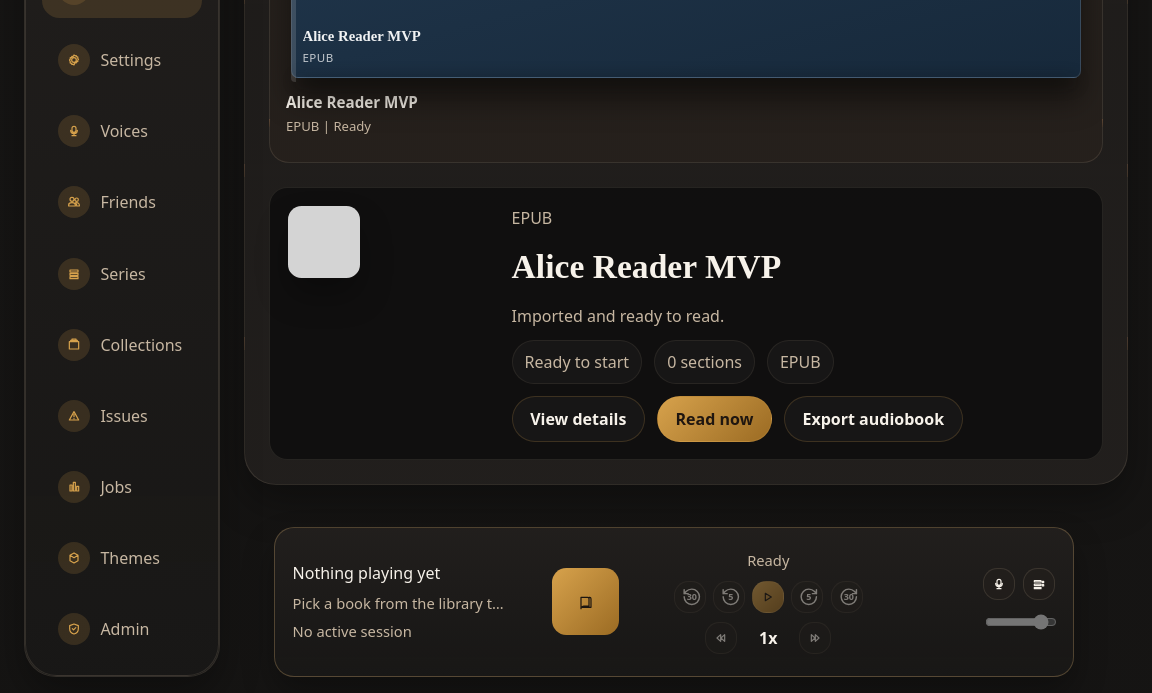
Test: LibraryPage › tells Alice when no presets exist and points to the voices page
The width and height of the screenshot is (1152, 693).
(page scrolled)
Click the button "Export audiobook" at [873, 419], box 784,396 -> 963,442
(page scrolled)
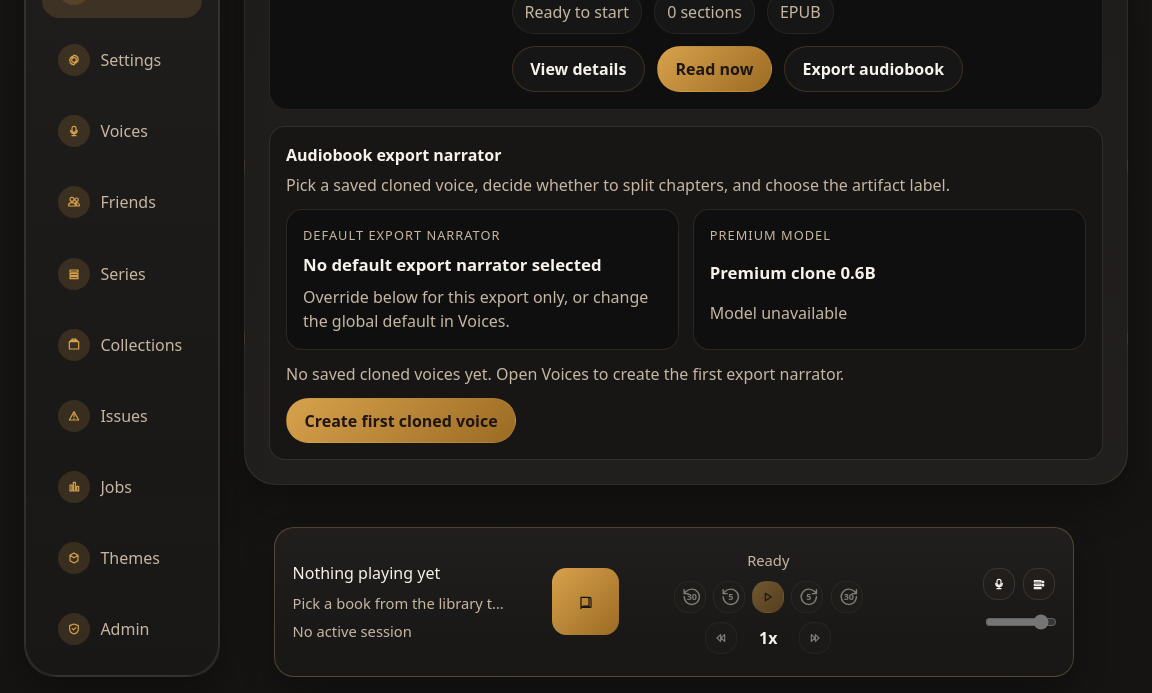
Expected: the text "No saved cloned voices yet. Open Voices to create the first export narrator." is shown, 286,362 -> 844,386
Click the button "Create first cloned voice" at [401, 421], box 286,398 -> 516,444
(page scrolled)
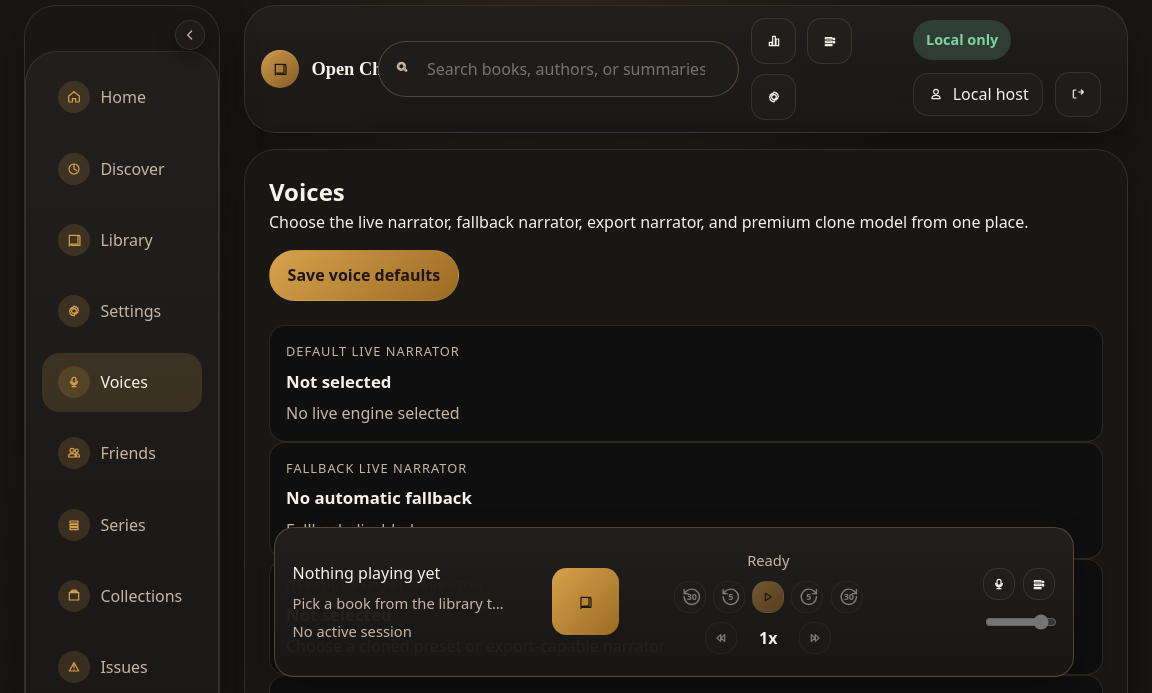
Expected: the heading "Voices" is shown, 269,175 -> 345,208
